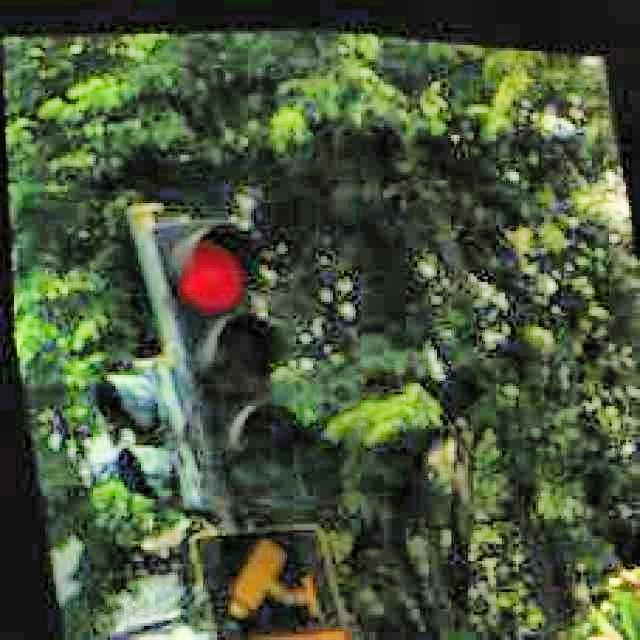red: (156, 219, 300, 503)
